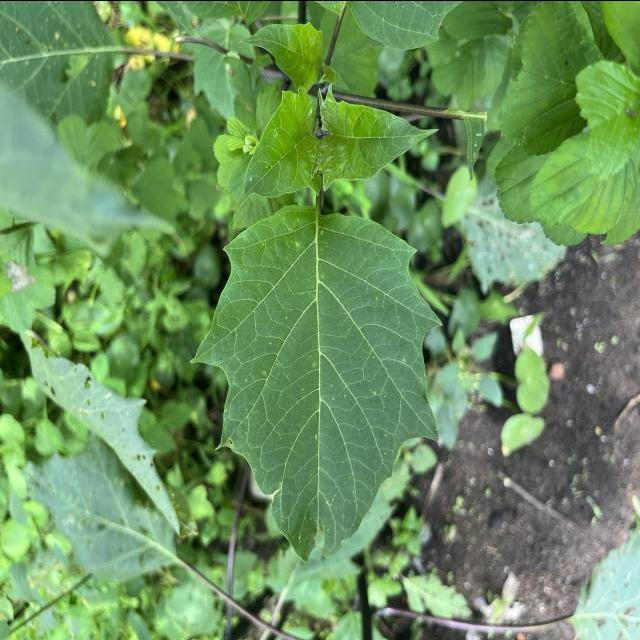Datura metal linn: (186, 200, 448, 566)
